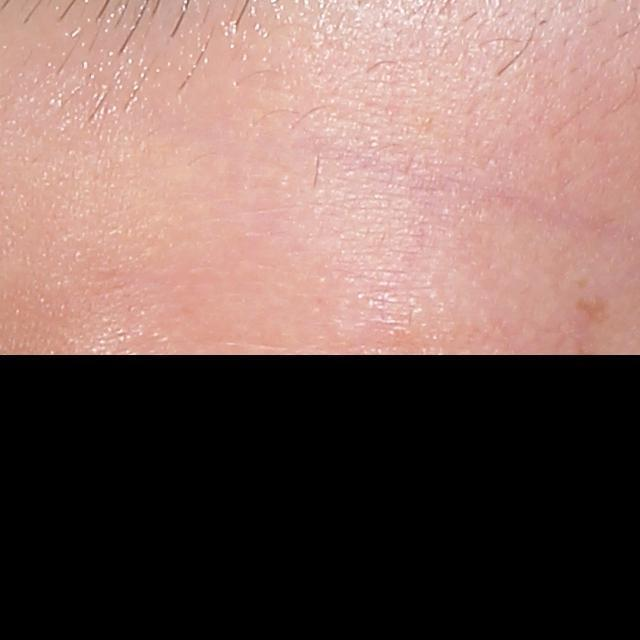melasma: (575, 291, 608, 324)
